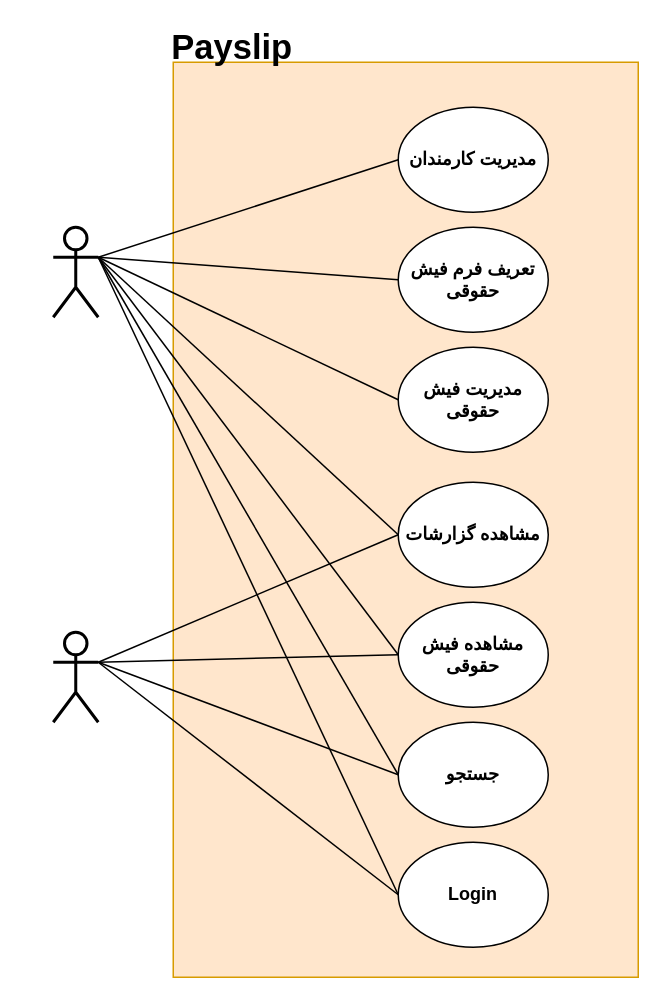
This 665x1004 diagram has some shape labels left out. Each missing label, with the centre of its shape:
"Employee" goes at (x=75, y=676).
"Manager" goes at (x=75, y=271).
